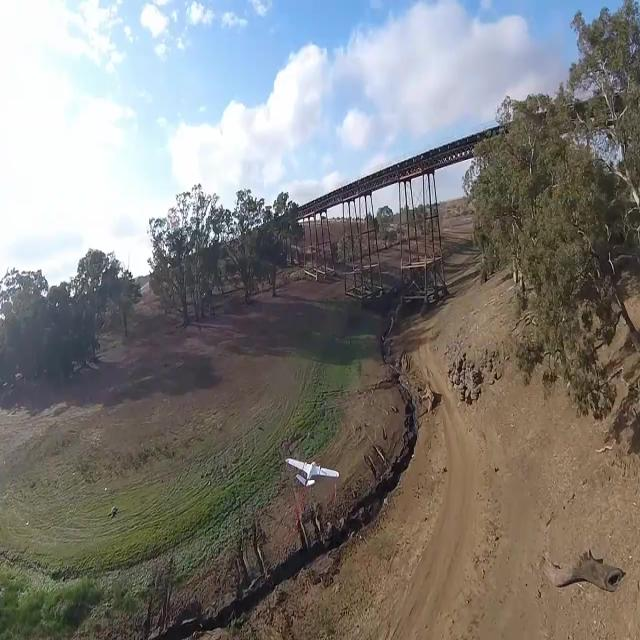iha: (284, 456, 340, 489)
